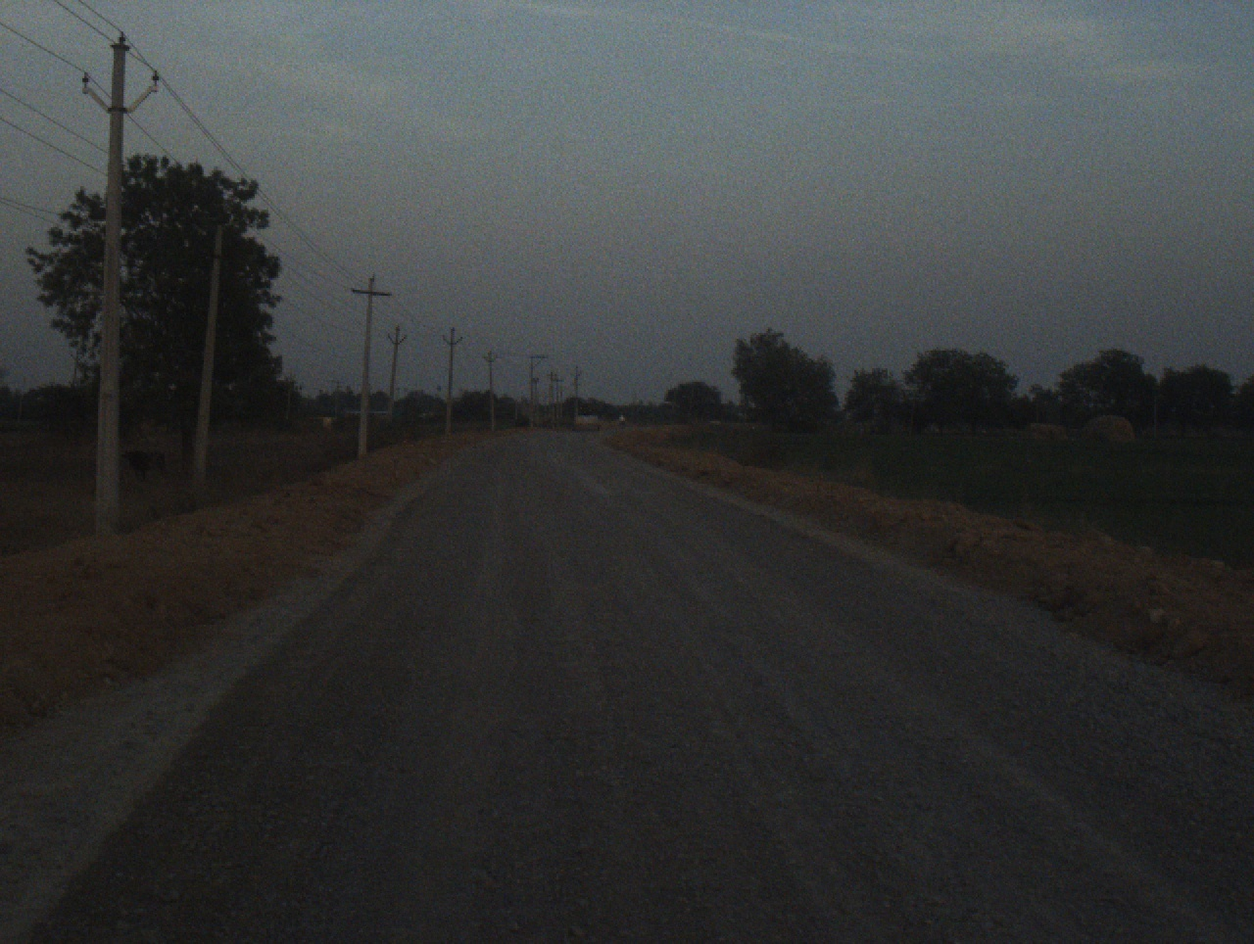vehicle fallback: (570, 397, 604, 433)
